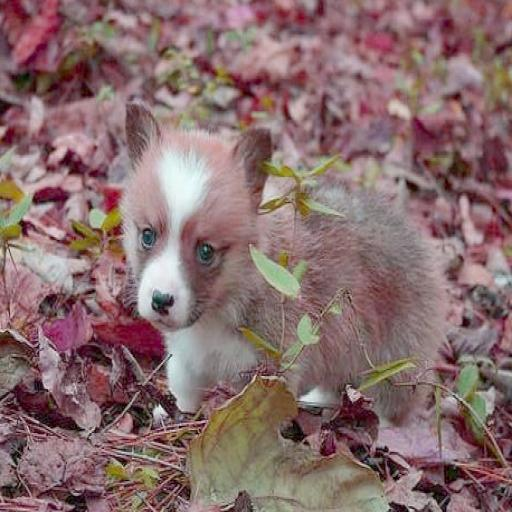dog_face: (117, 97, 272, 324)
